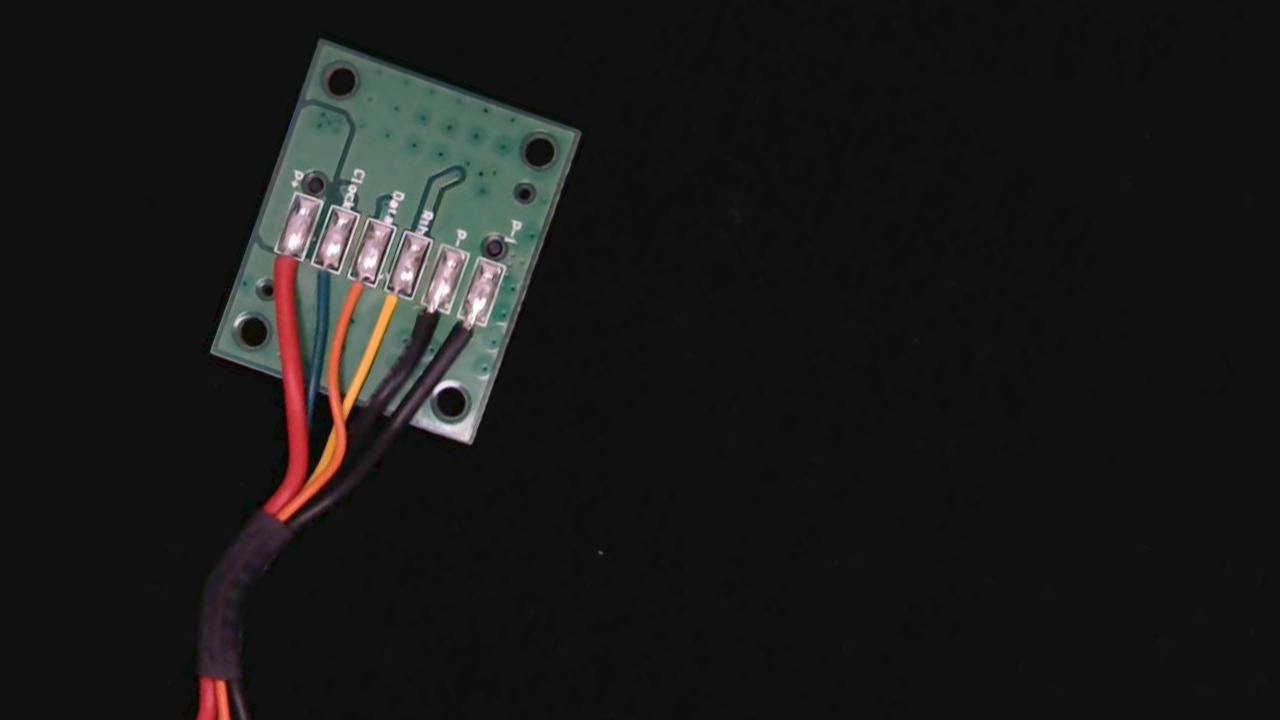Black: (402, 285, 453, 358)
Black1: (440, 300, 494, 375)
Green: (294, 241, 345, 311)
Orange: (331, 257, 380, 325)
Red: (254, 228, 310, 306)
Yellow: (366, 272, 416, 346)
